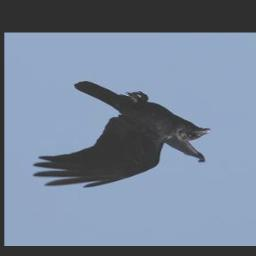Crow: (31, 81, 213, 190)
